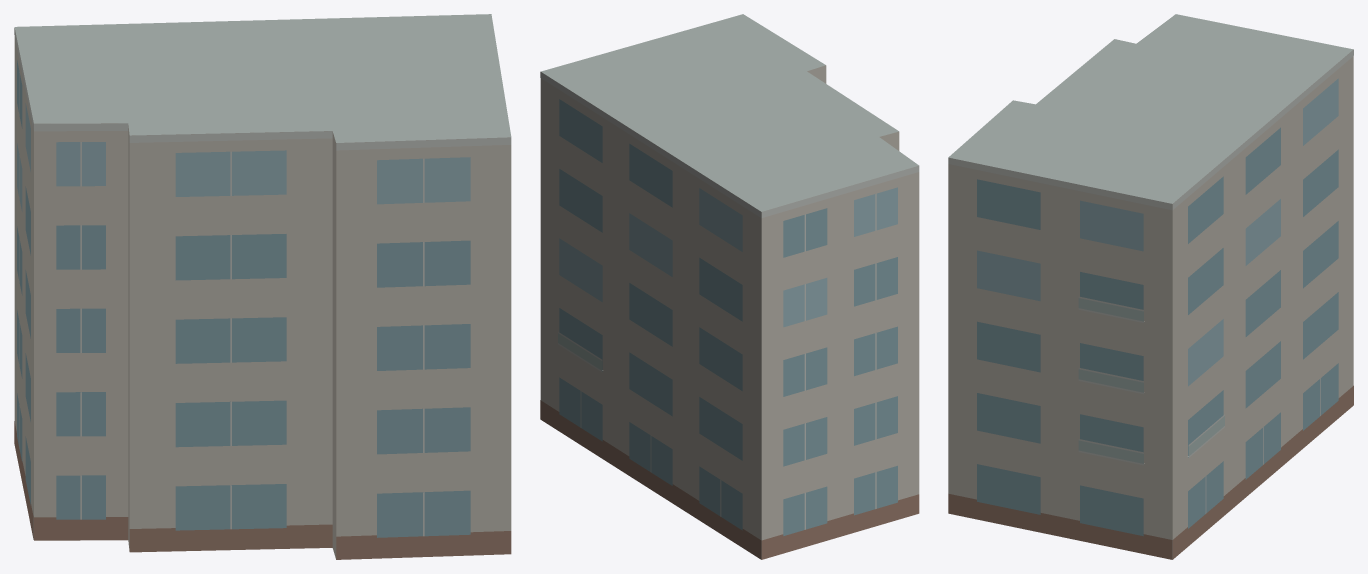
File: survey-upis-32852752.glb
3 renders of one model, left to right at view 1: azimuth 30°, elevation 25°; view 2: azimuth 150°, elevation 25°; view 3: azimuth 270°, elevation 25°, orthographic. The views are drawn at different scales.
Visible parts, largest first — view 1: survey-upis-32852752.tmp; view 2: survey-upis-32852752.tmp; view 3: survey-upis-32852752.tmp.
Boxes of the visible parts, x1,y1,x2,y2 form: survey-upis-32852752.tmp: [14, 14, 511, 559]; survey-upis-32852752.tmp: [540, 14, 919, 559]; survey-upis-32852752.tmp: [948, 14, 1353, 559].
Bounding box in the file's own units: 15.45 × 13.5 × 13.95.
